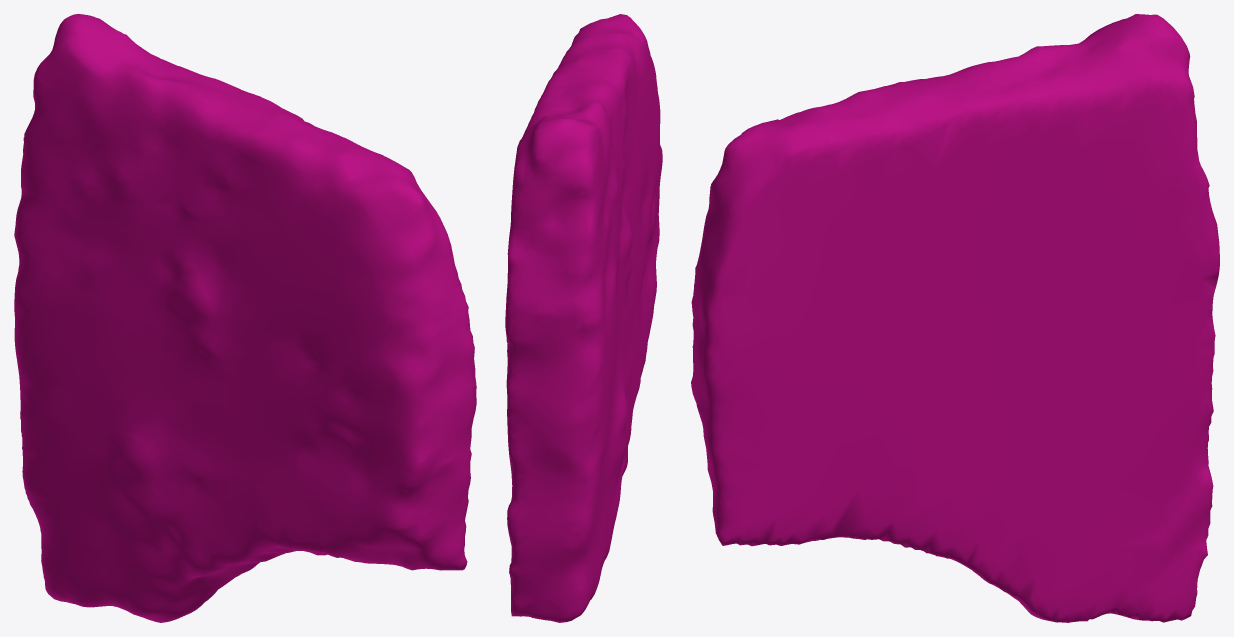
3 views of the same model, side by side, from view 1: azimuth 30°, elevation 25°; view 2: azimuth 150°, elevation 25°; view 3: azimuth 270°, elevation 25° (orthographic). The views are drawn at different scales.
Visible parts, largest first — view 1: Object_1; view 2: Object_1; view 3: Object_1.
Part boxes in pixels (bbox=[...]): Object_1: bbox=[14, 14, 476, 622]; Object_1: bbox=[505, 14, 662, 622]; Object_1: bbox=[691, 14, 1219, 622].
Bounding box in the file's own units: 314 × 748 × 610.
